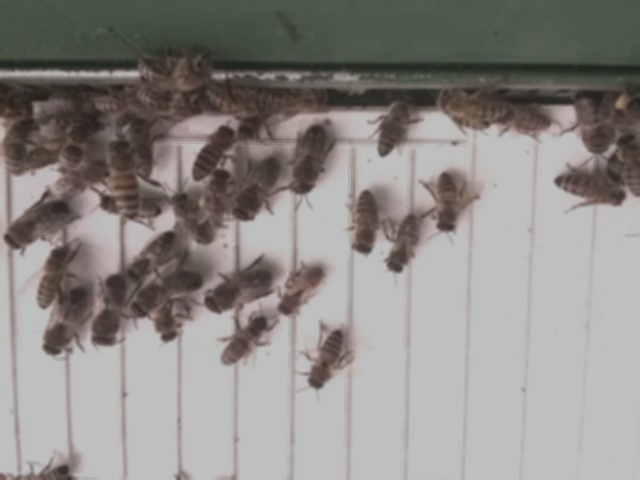Drone: (1, 200, 73, 256), (39, 287, 91, 361), (229, 155, 283, 226), (130, 271, 205, 322), (201, 267, 273, 318), (87, 272, 126, 353), (286, 123, 327, 200), (572, 90, 617, 157)
Worker: (300, 328, 355, 397), (22, 245, 73, 313), (369, 98, 425, 158), (552, 169, 622, 216), (104, 138, 143, 222), (425, 173, 473, 240), (122, 231, 178, 286), (164, 189, 218, 246), (275, 262, 327, 320), (378, 209, 421, 279), (214, 313, 269, 367), (188, 124, 234, 187), (434, 91, 507, 124), (347, 185, 378, 262), (0, 115, 37, 179), (200, 168, 231, 227), (260, 86, 327, 113), (58, 127, 92, 173)
